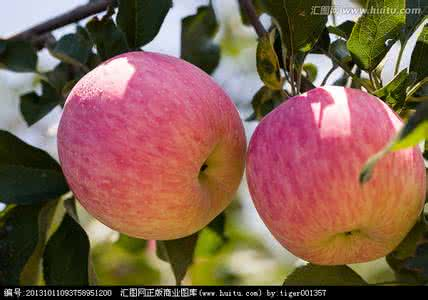apple: (55, 53, 243, 238), (248, 83, 425, 265)
